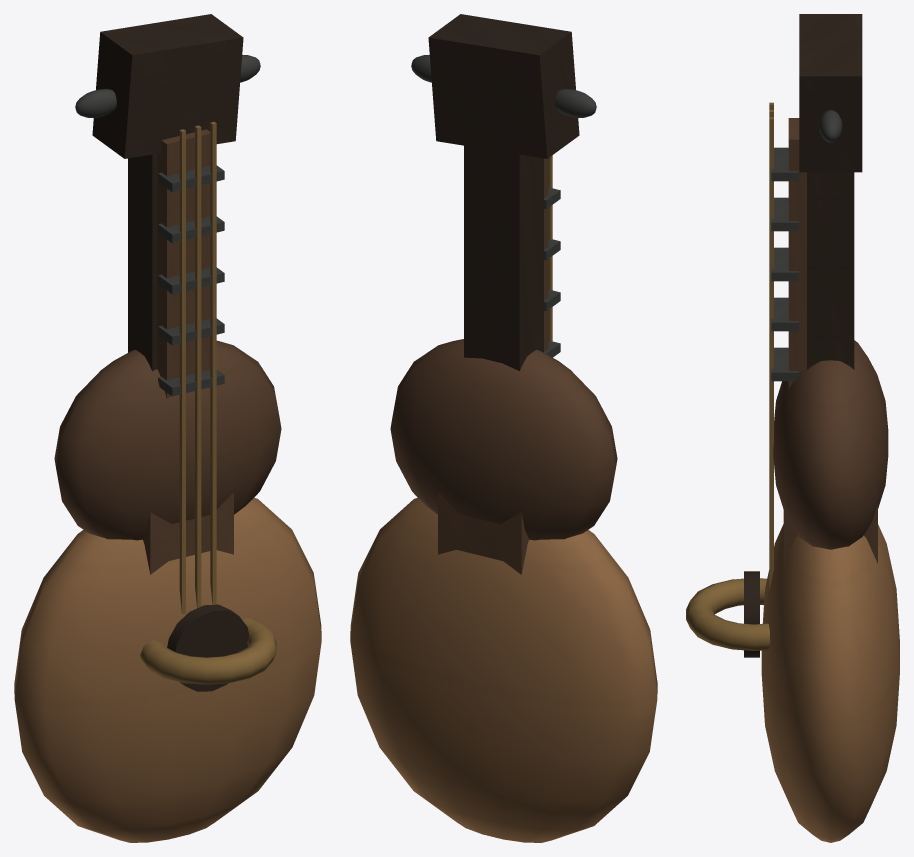
The model's file is sk-household-lute.glb.
The picture shows the model from 3 angles, left to right: view 1: azimuth 30°, elevation 25°; view 2: azimuth 150°, elevation 25°; view 3: azimuth 270°, elevation 25°; orthographic projection. The views are drawn at different scales.
Visible parts, largest first — view 1: lute-body-lower, household:lute-static-wood (×2), household:lute-static-metal (×2); view 2: lute-body-lower, household:lute-static-wood (×2), household:lute-static-metal (×2); view 3: household:lute-static-wood (×2), lute-body-lower, household:lute-static-metal (×2).
Boxes of the visible parts, x1=… form: lute-body-lower: x1=14, y1=497, x2=321, y2=842; household:lute-static-wood (×2): x1=54, y1=14, x2=281, y2=691; household:lute-static-metal (×2): x1=75, y1=55, x2=276, y2=684; lute-body-lower: x1=350, y1=497, x2=657, y2=842; household:lute-static-wood (×2): x1=390, y1=14, x2=617, y2=574; household:lute-static-metal (×2): x1=411, y1=55, x2=596, y2=357; household:lute-static-wood (×2): x1=744, y1=14, x2=888, y2=657; lute-body-lower: x1=761, y1=524, x2=899, y2=842; household:lute-static-metal (×2): x1=686, y1=102, x2=842, y2=650.
Size of the model in its own units: 0.44 by 1.11 by 0.2714.
Materials: 5 (5 with a texture image).
